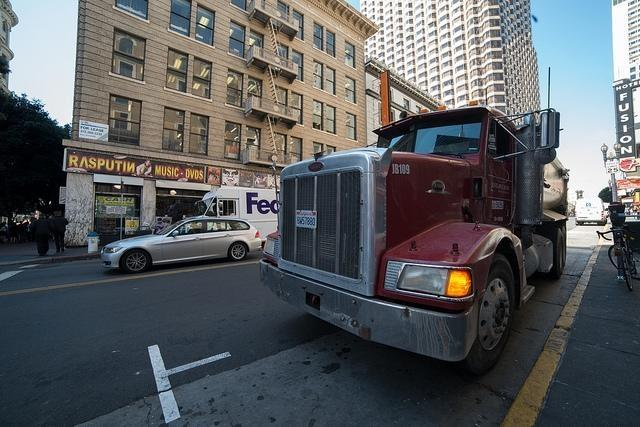bicycle: (596, 223, 640, 292)
car: (102, 218, 262, 271), (576, 196, 608, 226)
truck: (256, 106, 570, 380), (200, 186, 276, 242)
